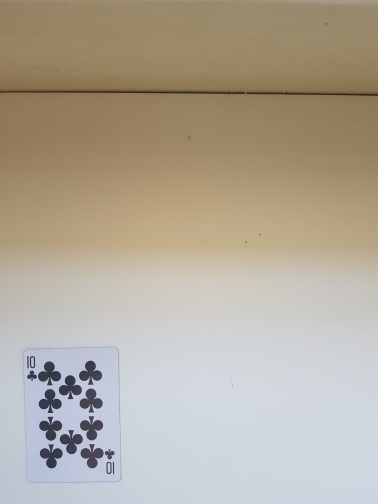ten: (23, 346, 121, 484)
